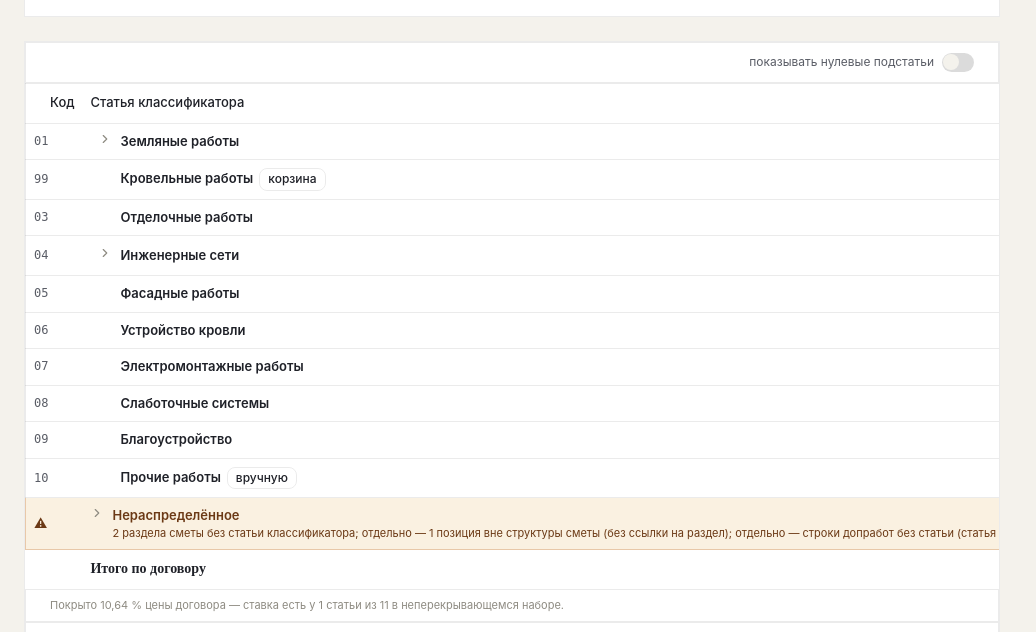
it: Паспорт проекта: таблица по статьям › подпись переносится и когда разделы неизвестны (пустой own_sections)
This screenshot has width=1036, height=632.
(page scrolled)
Click the button named "Развернуть статью 04" at (106, 253), box [98, 246, 112, 260]
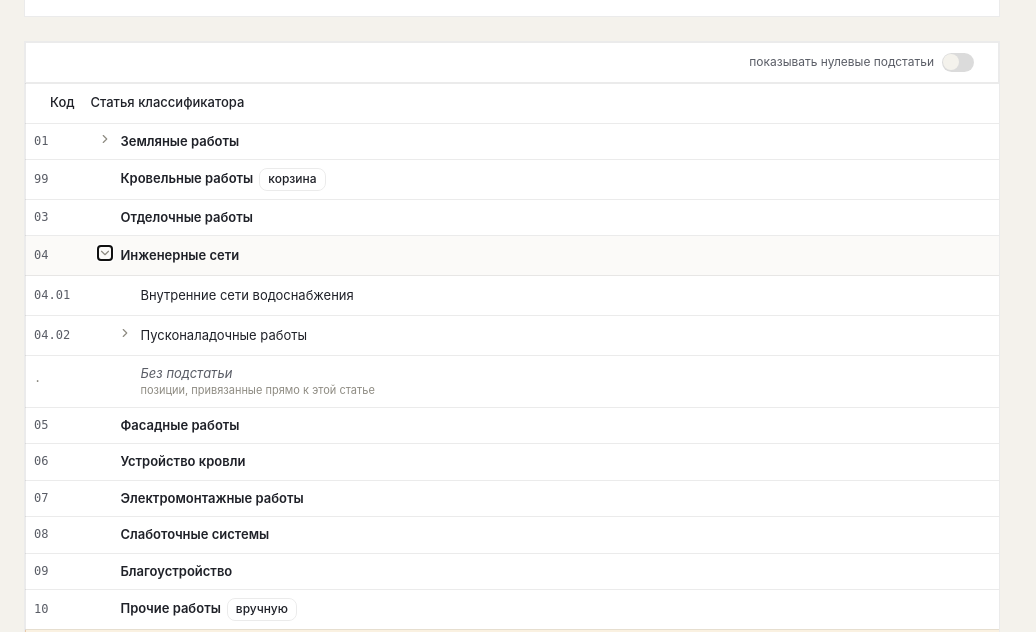
Expected: the text with test id "own-caption-04" reads "позиции, привязанные прямо к этой статье", [140, 383, 375, 397]
